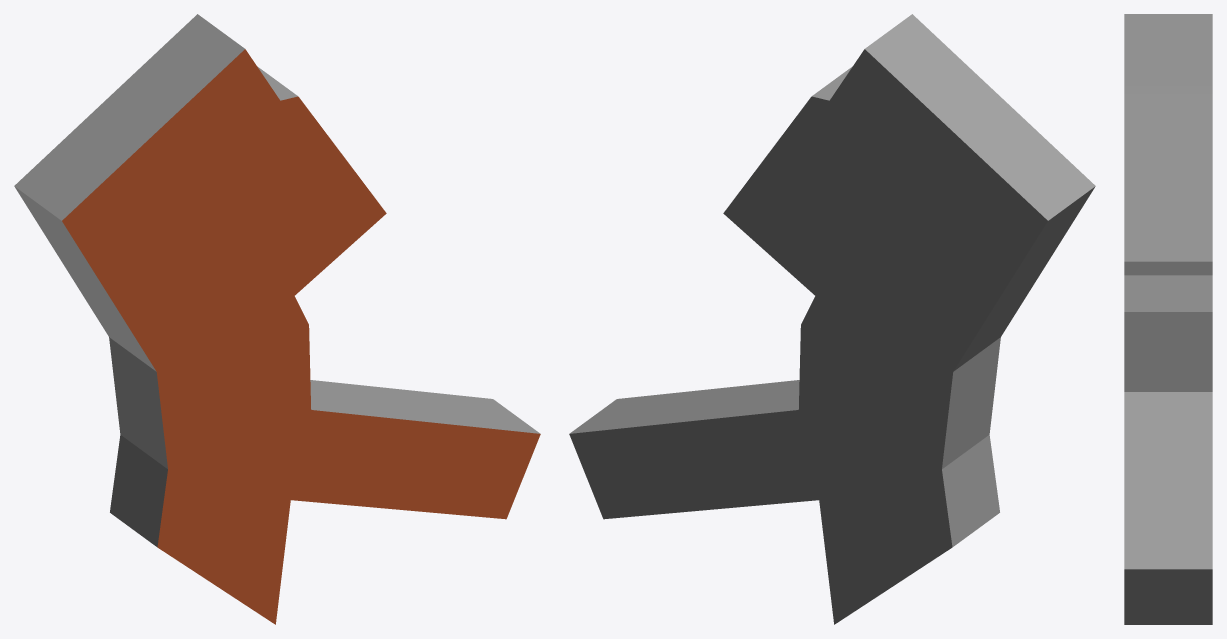
Rendered from construction_1927_assumed_A_Casa_h6m.obj.
3 renders of one model, left to right at view 1: azimuth 30°, elevation 25°; view 2: azimuth 150°, elevation 25°; view 3: azimuth 270°, elevation 25°, orthographic. The views are drawn at different scales.
Parts seen in each view (by area): view 1: construction_1927_assumed_A_Casa; view 2: construction_1927_assumed_A_Casa; view 3: construction_1927_assumed_A_Casa.
Part boxes in pixels (<box>): construction_1927_assumed_A_Casa: <box>14,14,540,624</box>; construction_1927_assumed_A_Casa: <box>569,14,1095,624</box>; construction_1927_assumed_A_Casa: <box>1124,14,1212,624</box>.
Bounding box in the file's own units: 34.78 × 40.49 × 6.
